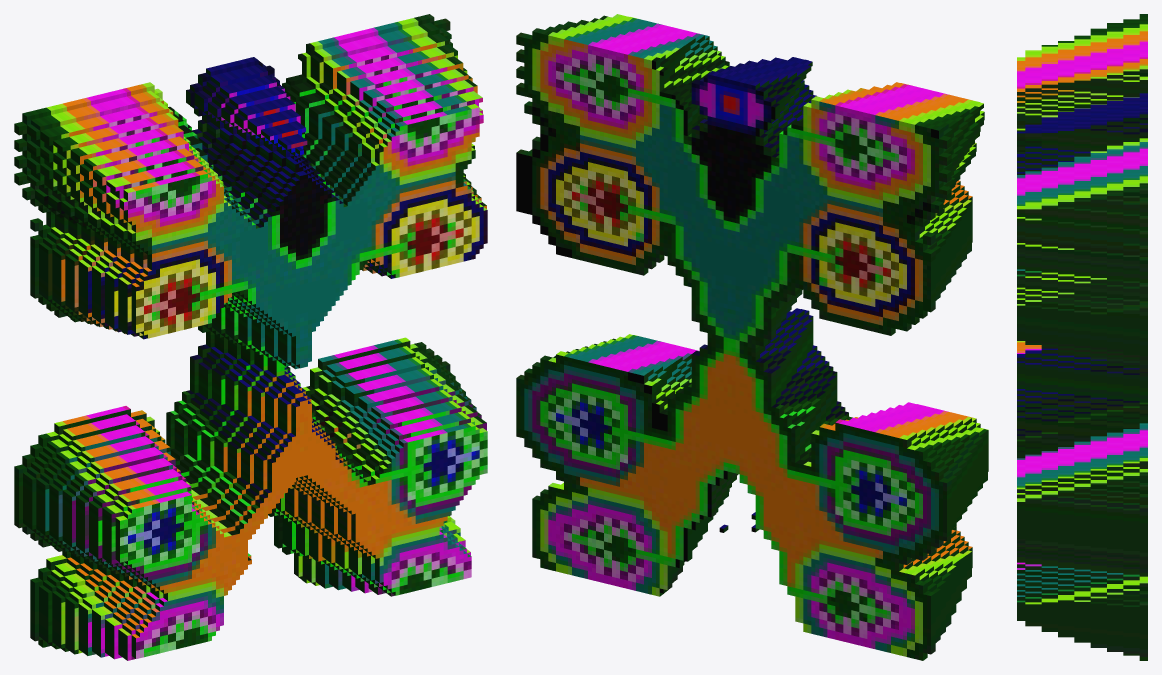
Rendered from dreamlingP21.obj.
3 views of the same model, side by side, from view 1: azimuth 30°, elevation 25°; view 2: azimuth 150°, elevation 25°; view 3: azimuth 270°, elevation 25° (orthographic). The views are drawn at different scales.
Size of the model in its own units: 108 by 128 by 32.
